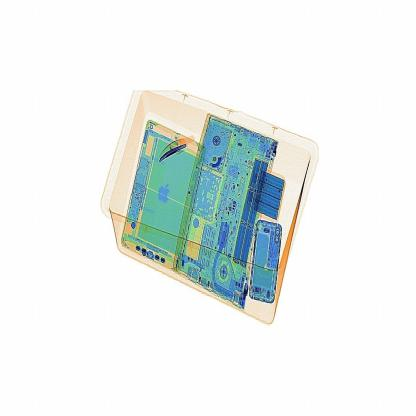pliers: (156, 127, 200, 168)
